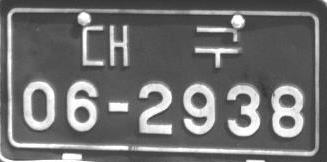0: (22, 80, 55, 132)
2: (138, 82, 172, 135)
3: (227, 84, 262, 137)
6: (66, 79, 99, 133)
8: (270, 84, 304, 138)
9: (182, 81, 216, 136)
대구_D: (81, 24, 239, 68)
